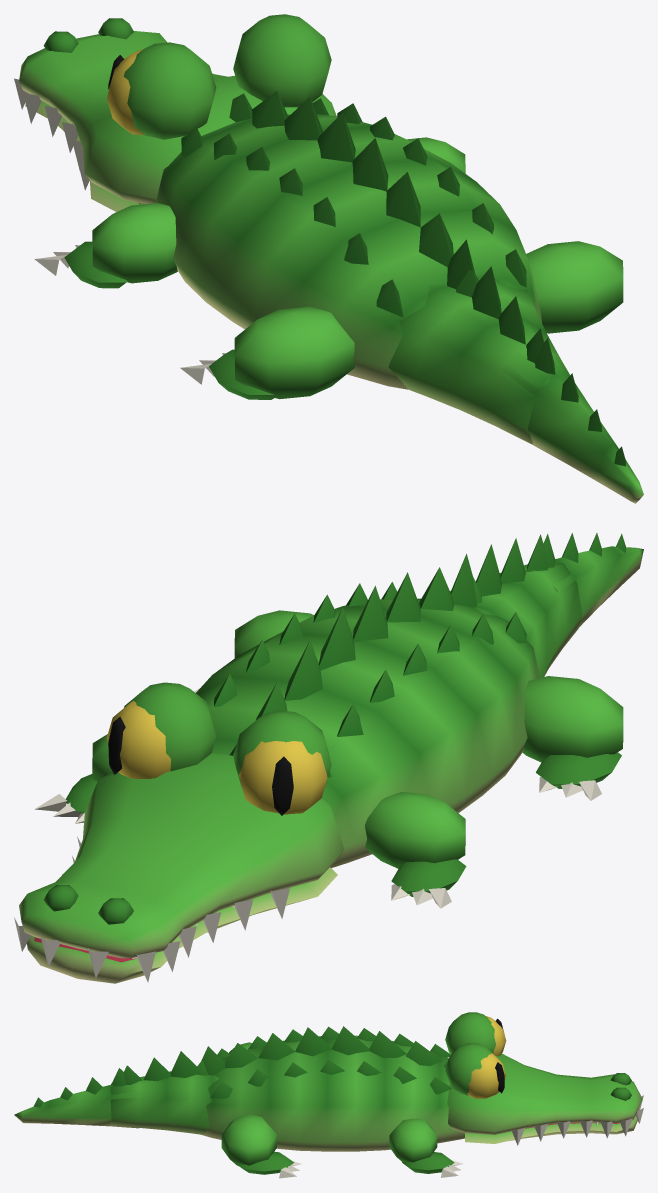
The model's file is cocodrilo.glb.
3 renders of one model, top to bottom at view 1: azimuth 30°, elevation 25°; view 2: azimuth 150°, elevation 25°; view 3: azimuth 270°, elevation 25°, orthographic. The views are drawn at different scales.
Visible parts, largest first — view 1: cocodrilo, jaw, tail, tail_tip; view 2: cocodrilo, jaw, tail, tail_tip; view 3: cocodrilo, jaw, tail, tail_tip.
Part boxes in pixels (x1=…): cocodrilo: x1=25, y1=91, x2=623, y2=399; jaw: x1=14, y1=14, x2=336, y2=203; tail: x1=388, y1=239, x2=568, y2=443; tail_tip: x1=499, y1=338, x2=643, y2=503; cocodrilo: x1=26, y1=567, x2=623, y2=983; jaw: x1=14, y1=682, x2=344, y2=982; tail: x1=450, y1=534, x2=581, y2=677; tail_tip: x1=525, y1=533, x2=643, y2=627; cocodrilo: x1=197, y1=1026, x2=638, y2=1178; jaw: x1=445, y1=1012, x2=643, y2=1145; tail: x1=110, y1=1046, x2=224, y2=1134; tail_tip: x1=14, y1=1068, x2=139, y2=1128.
Size of the model in its own units: 2.26 by 0.9736 by 5.49.
